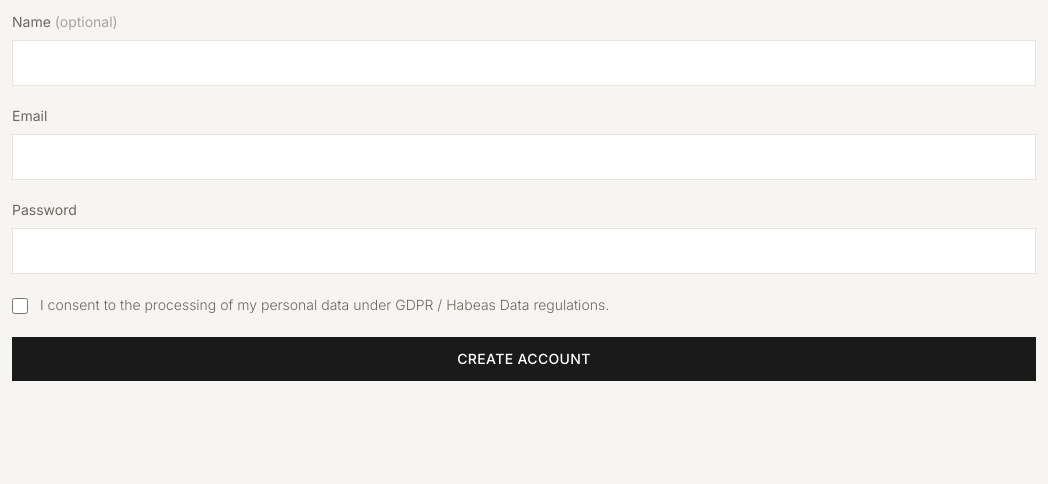
Test: EmailRegisterForm › validates required fields
Click the button "Create account".
click(524, 359)  # box [12,337,1036,381]
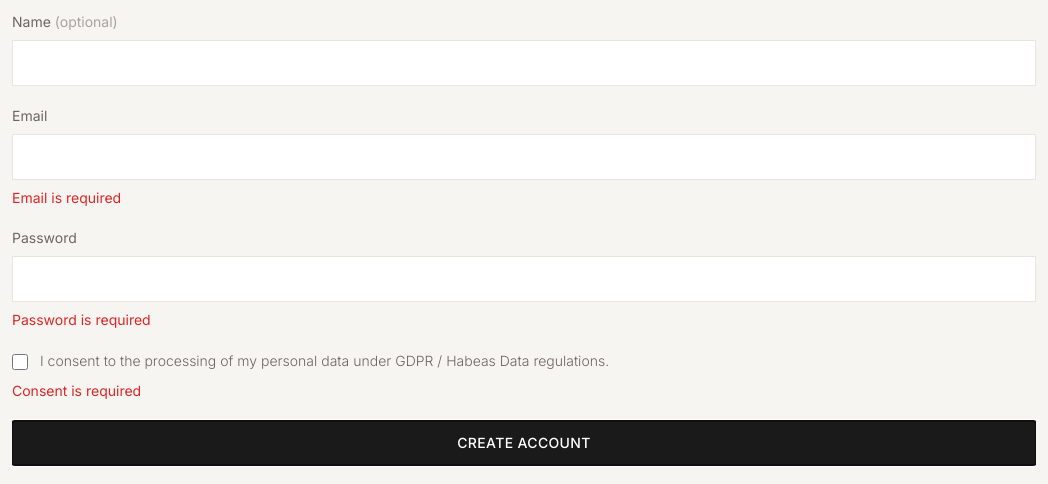
expect the text "Email is required" is shown: met, box [12,189,121,206]
expect the text "Consent is required" is shown: met, box [12,382,141,399]
